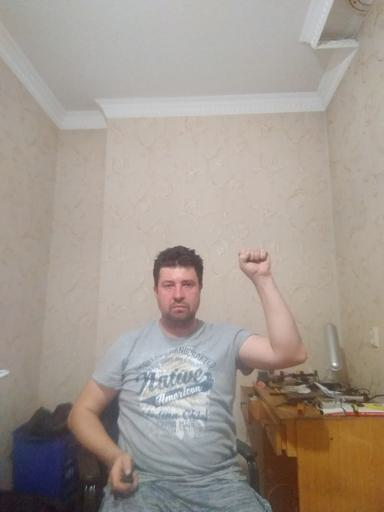fist: (237, 246, 273, 279)
